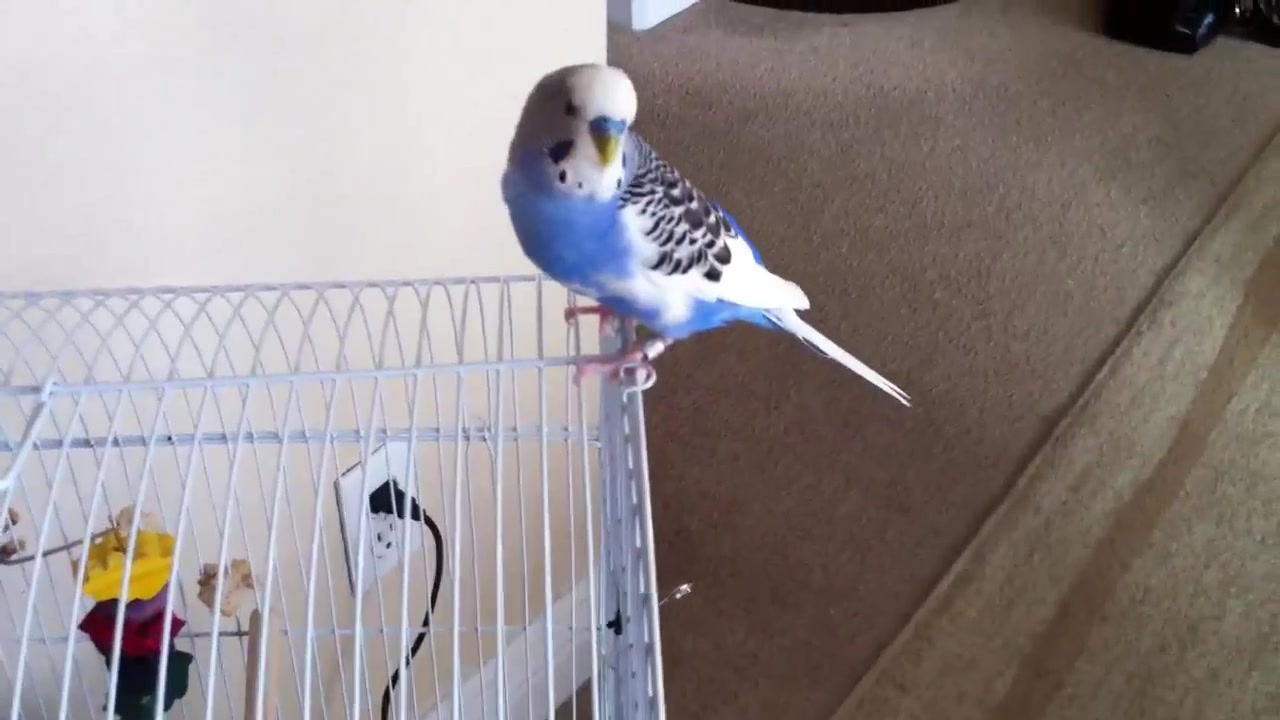bird: (502, 62, 913, 407)
